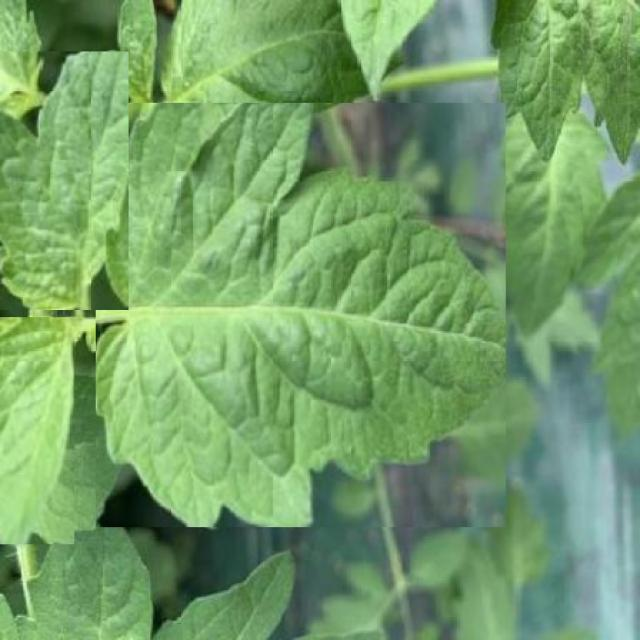Healthy: (96, 103, 506, 527), (0, 51, 129, 310), (0, 317, 74, 544)
